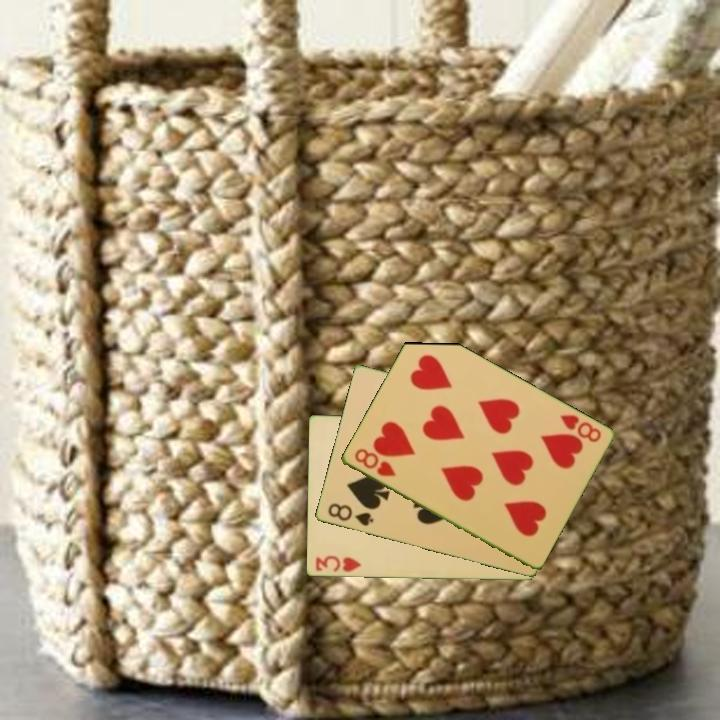3h: (311, 552, 364, 575)
8h: (350, 445, 399, 480), (556, 411, 604, 445)
8s: (324, 500, 376, 529)
